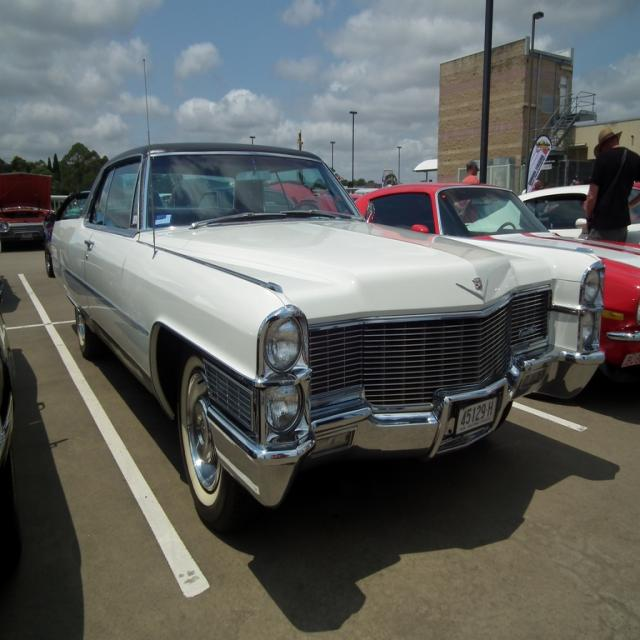car: (47, 138, 592, 524)
